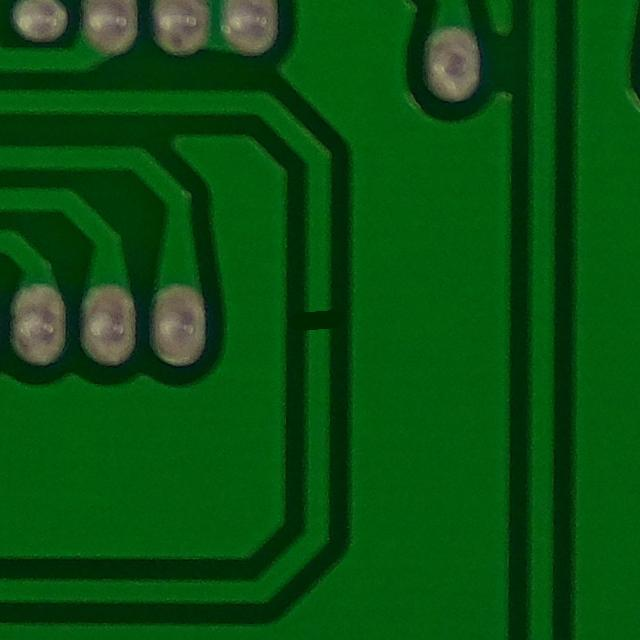open_circuit: (298, 299, 342, 342)
